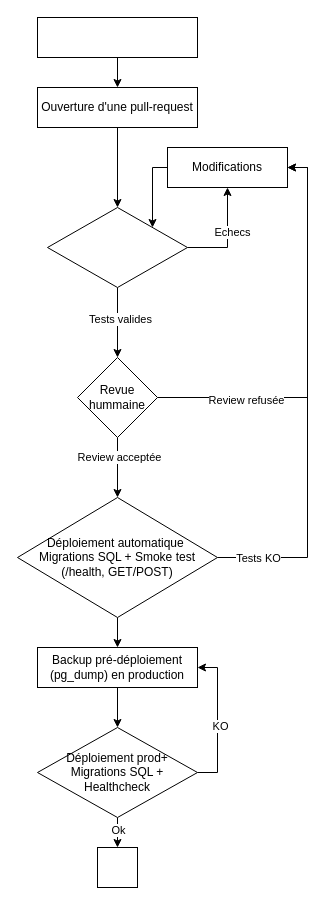
This 333x905 diagram has some shape labels left out. The centre of each missing label's shape, as x and y in pixels:
"Lancement des tests automatisés" goes at point (117, 247).
"Ouverture et assignation d'une issue" goes at point (117, 37).
"Tag" goes at point (117, 867).
